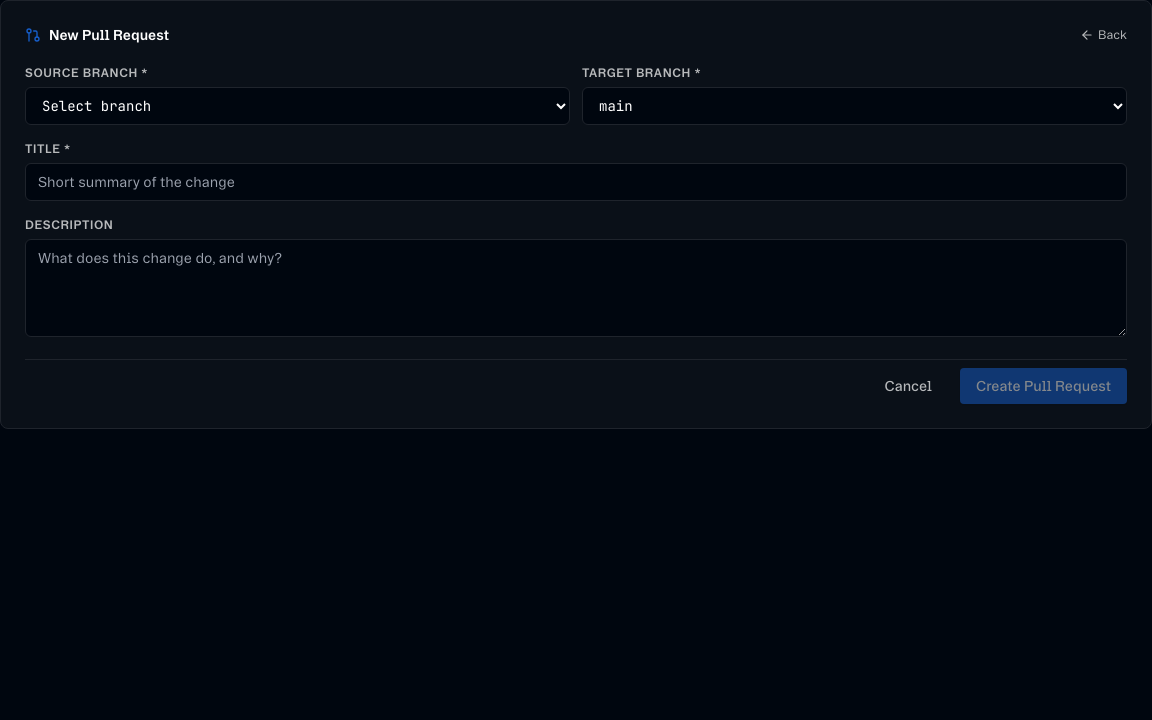
Scenario: PullRequestForm › rejects submitting when source and target branch are the same
Select "main" in the dropdown below "Source Branch *": (298, 106) [25,87,570,125]
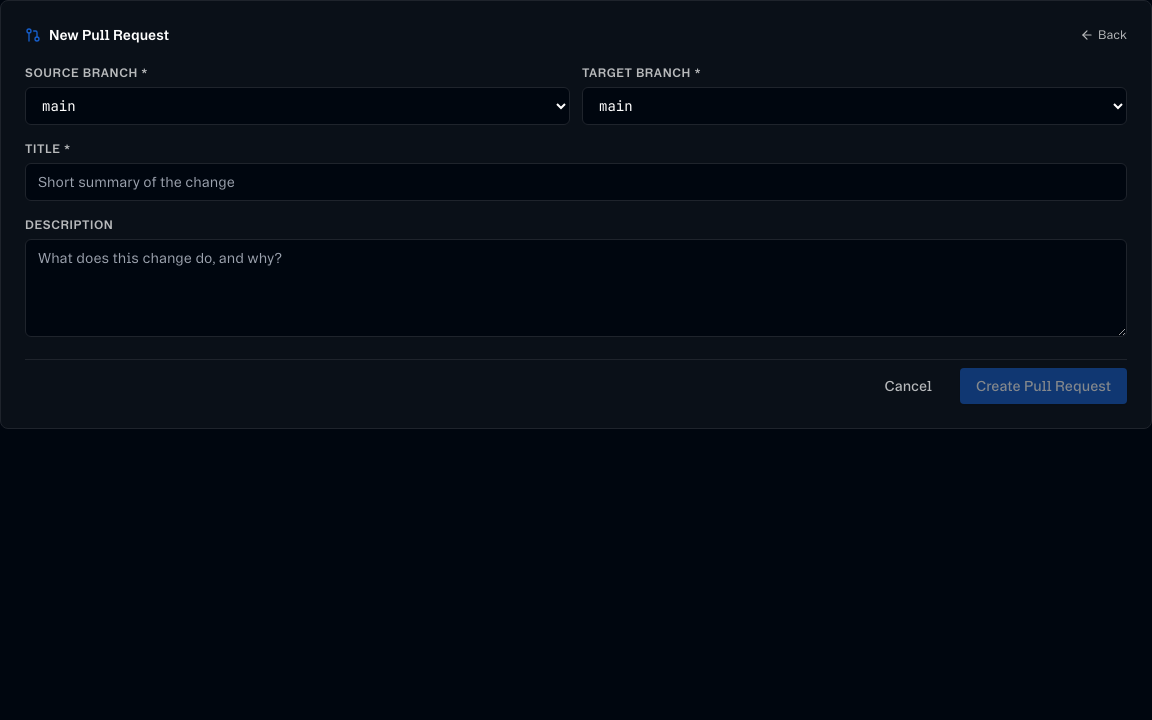
Select "main" in the dropdown below "Target Branch *": (854, 106) [582,87,1127,125]
In the field with placeholder "Short summary of the change": (576, 182) [25,163,1127,201], type "title"
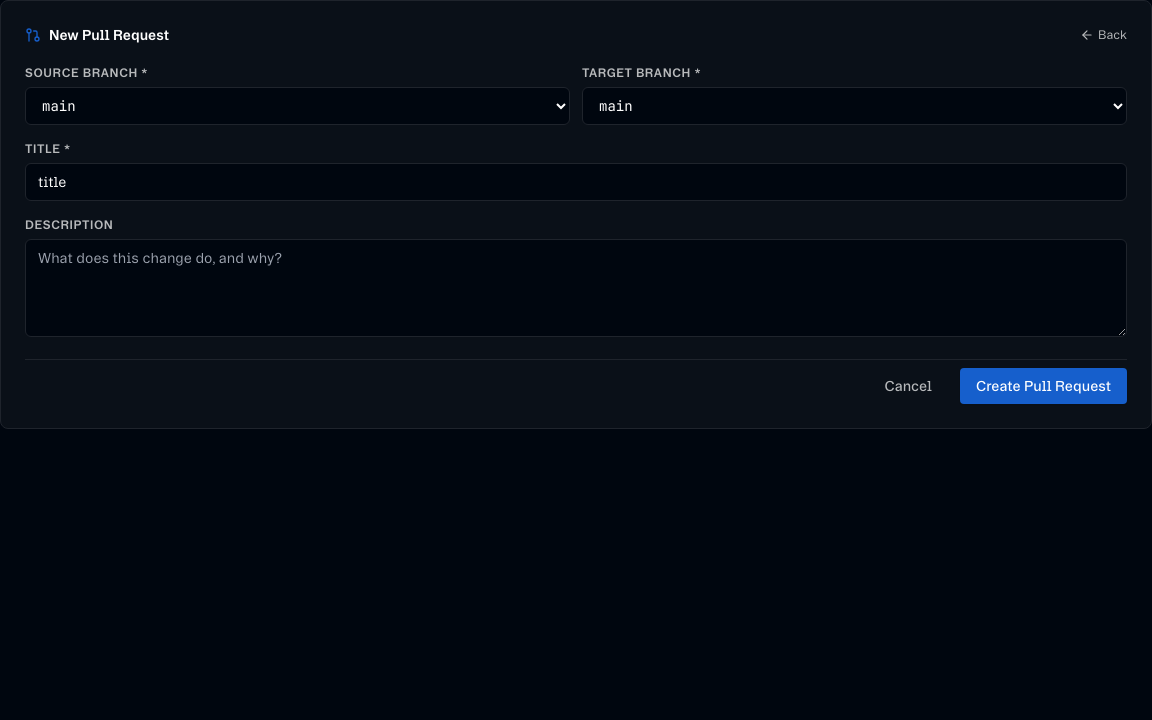
Click the button "Create Pull Request": (1044, 386) [960,368,1127,404]
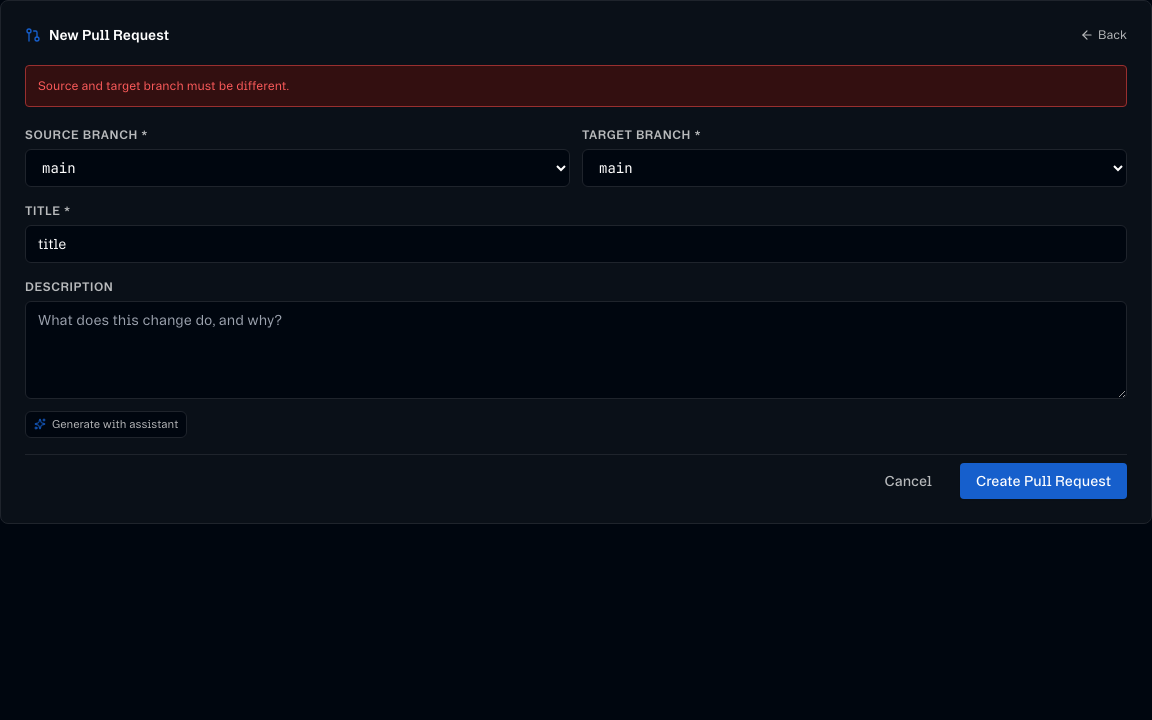
Expected: the text "Source and target branch must be different." is shown, [25,65,1127,107]
